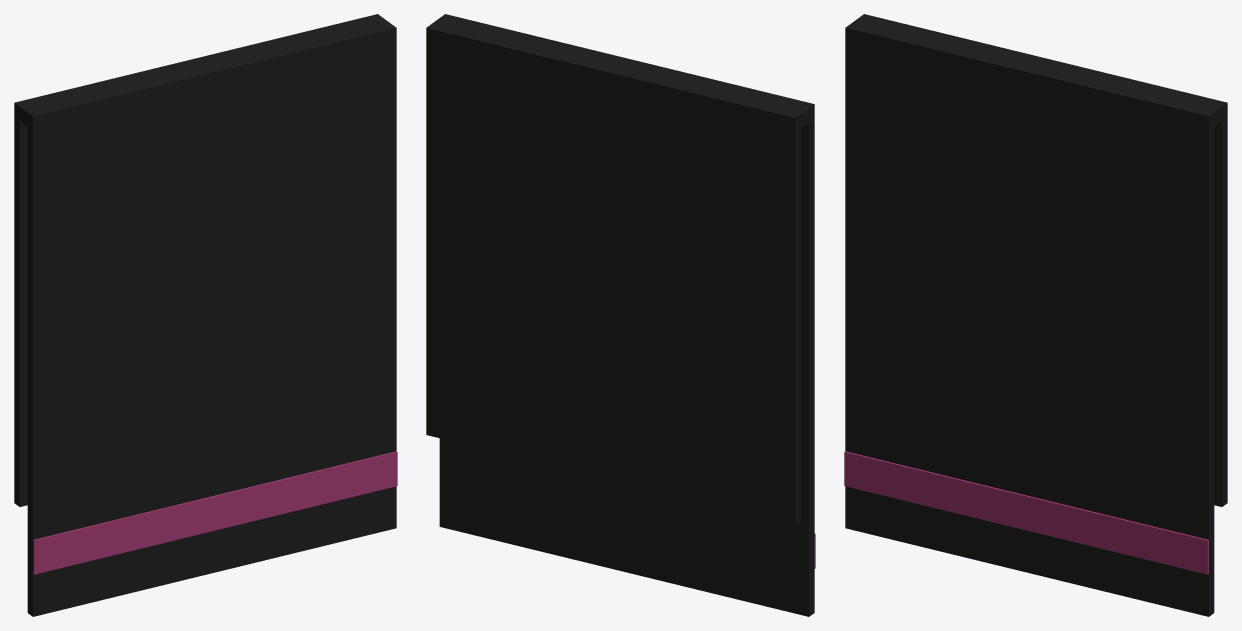
The model's file is towel-line-vibe.glb.
3 renders of one model, left to right at view 1: azimuth 30°, elevation 25°; view 2: azimuth 150°, elevation 25°; view 3: azimuth 330°, elevation 25°, orthographic.
Visible parts, largest first — view 1: rubber, accent-magenta; view 2: rubber; view 3: rubber, accent-magenta.
Part boxes in pixels (x1,y1,x2,y2): rubber: (14, 14, 396, 616); accent-magenta: (33, 451, 397, 574); rubber: (426, 14, 814, 616); rubber: (845, 14, 1227, 616); accent-magenta: (844, 451, 1208, 574).
Bounding box in the file's own units: 0.38 × 0.5 × 0.036.
